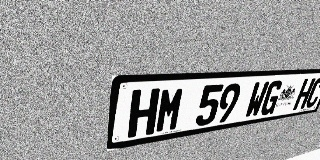5: (194, 84, 224, 127)
9: (214, 83, 243, 123)
C: (304, 77, 320, 108)
G: (259, 80, 284, 116)
H: (127, 88, 160, 138), (292, 78, 316, 110)
M: (154, 87, 186, 134)
W: (243, 81, 270, 119)
